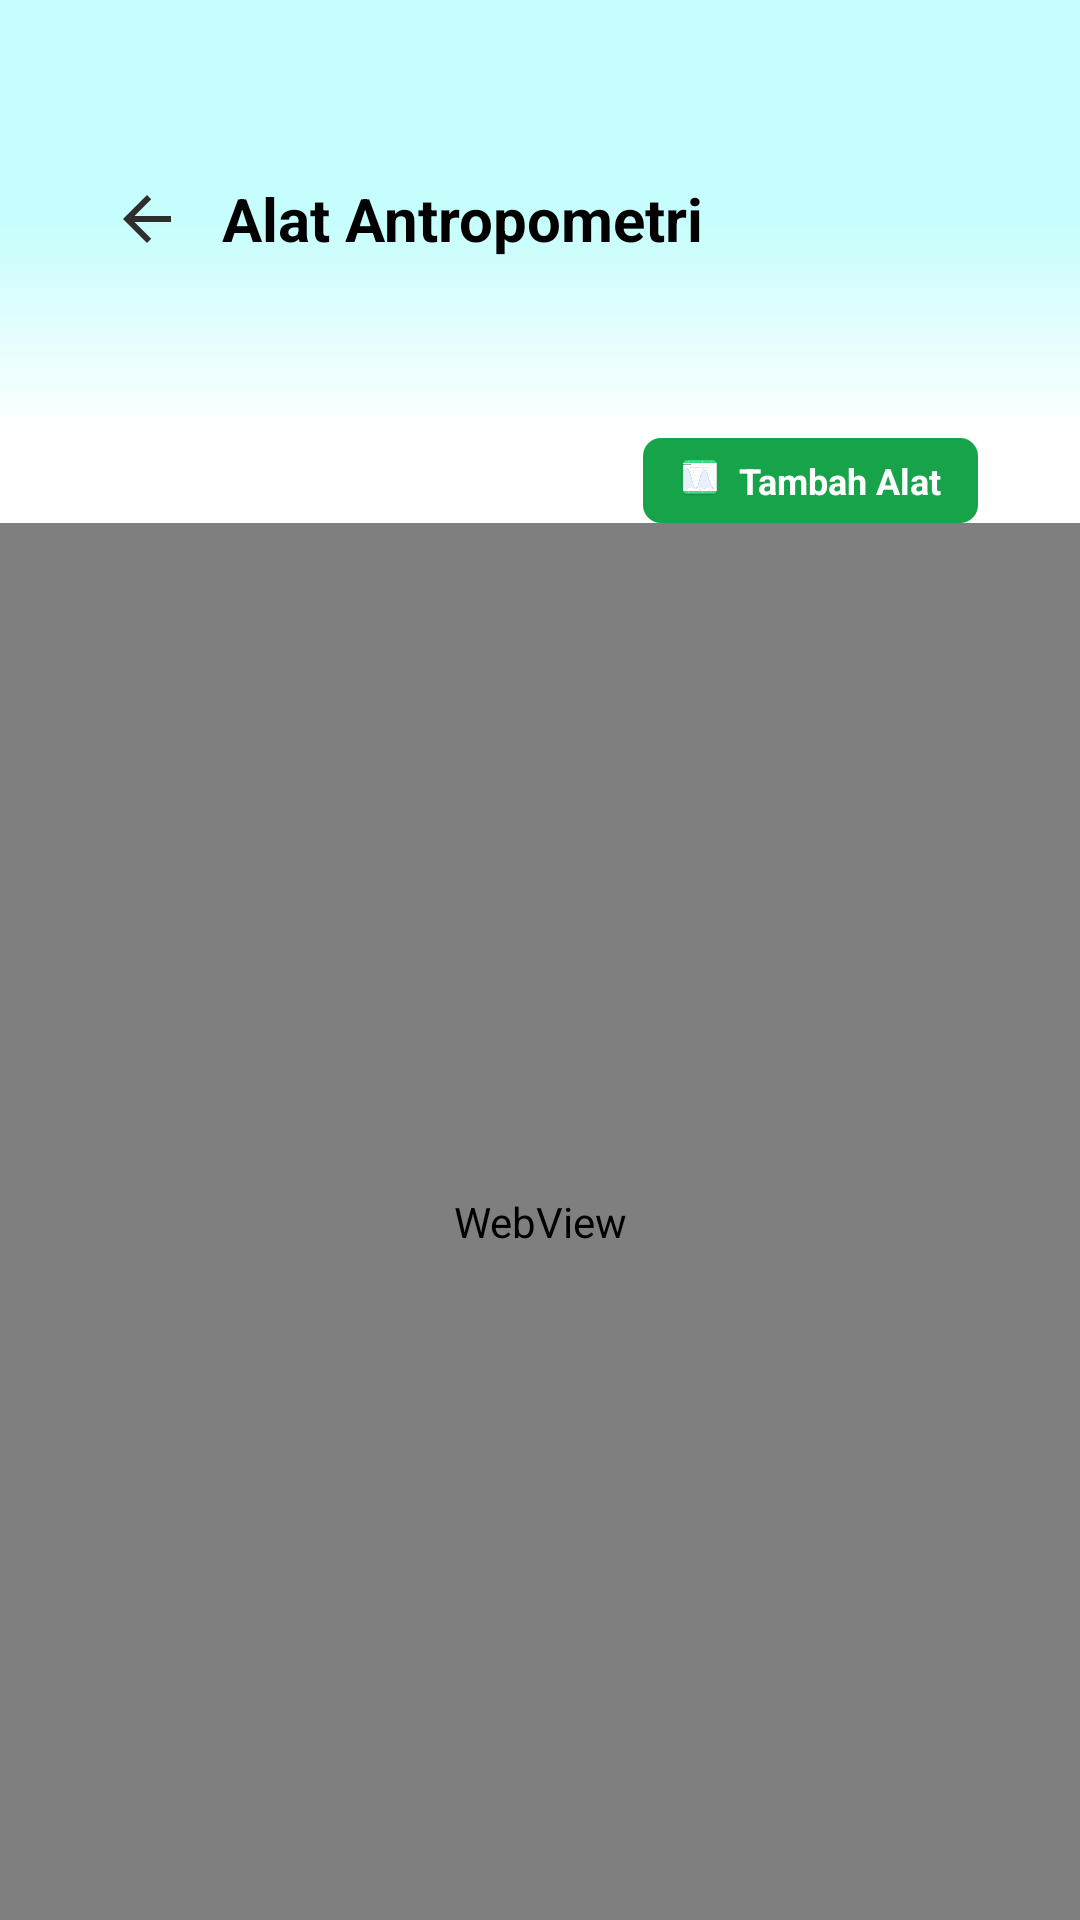

Point at icon controls on the screen. Image size 1080px×1920px, points as (x=x, y=y).
arrow back: (x=147, y=219)
